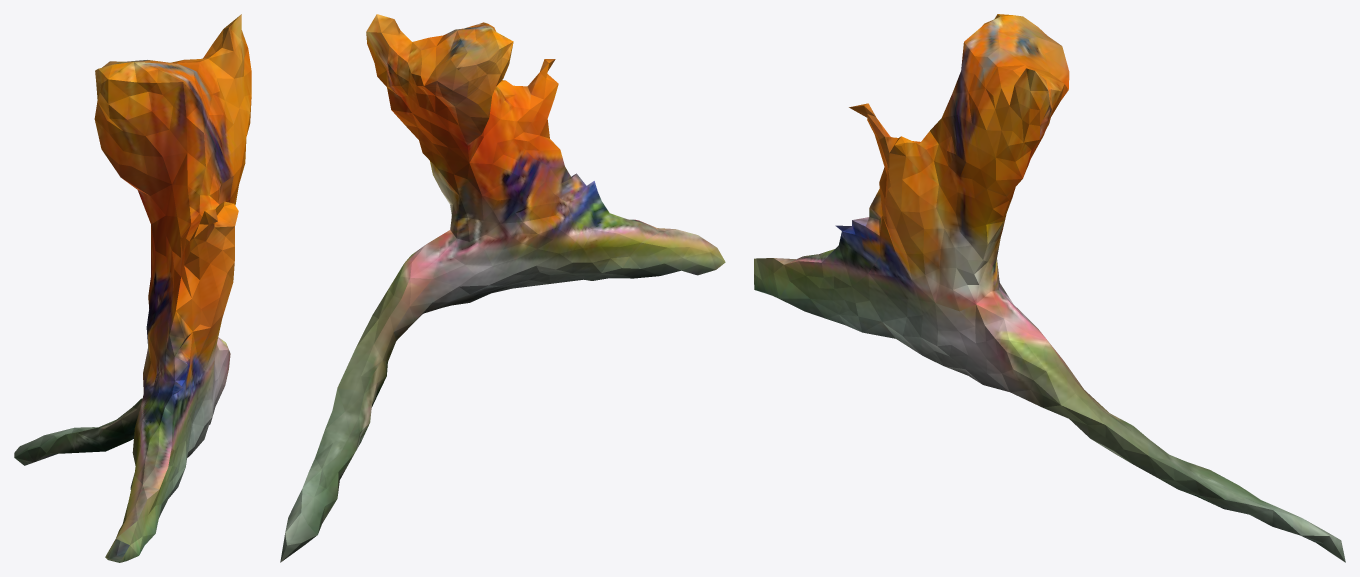
Rendered from orange.obj.
3 renders of one model, left to right at view 1: azimuth 30°, elevation 25°; view 2: azimuth 150°, elevation 25°; view 3: azimuth 270°, elevation 25°, orthographic. The views are drawn at different scales.
Parts seen in each view (by area): view 1: Mesh_0; view 2: Mesh_0; view 3: Mesh_0.
Part boxes in pixels (bbox=[...]): Mesh_0: bbox=[14, 14, 251, 562]; Mesh_0: bbox=[280, 14, 725, 562]; Mesh_0: bbox=[754, 14, 1345, 562].
Bounding box in the file's own units: 0.119 × 0.2135 × 0.2231.
Materials: 1 (1 with a texture image).
